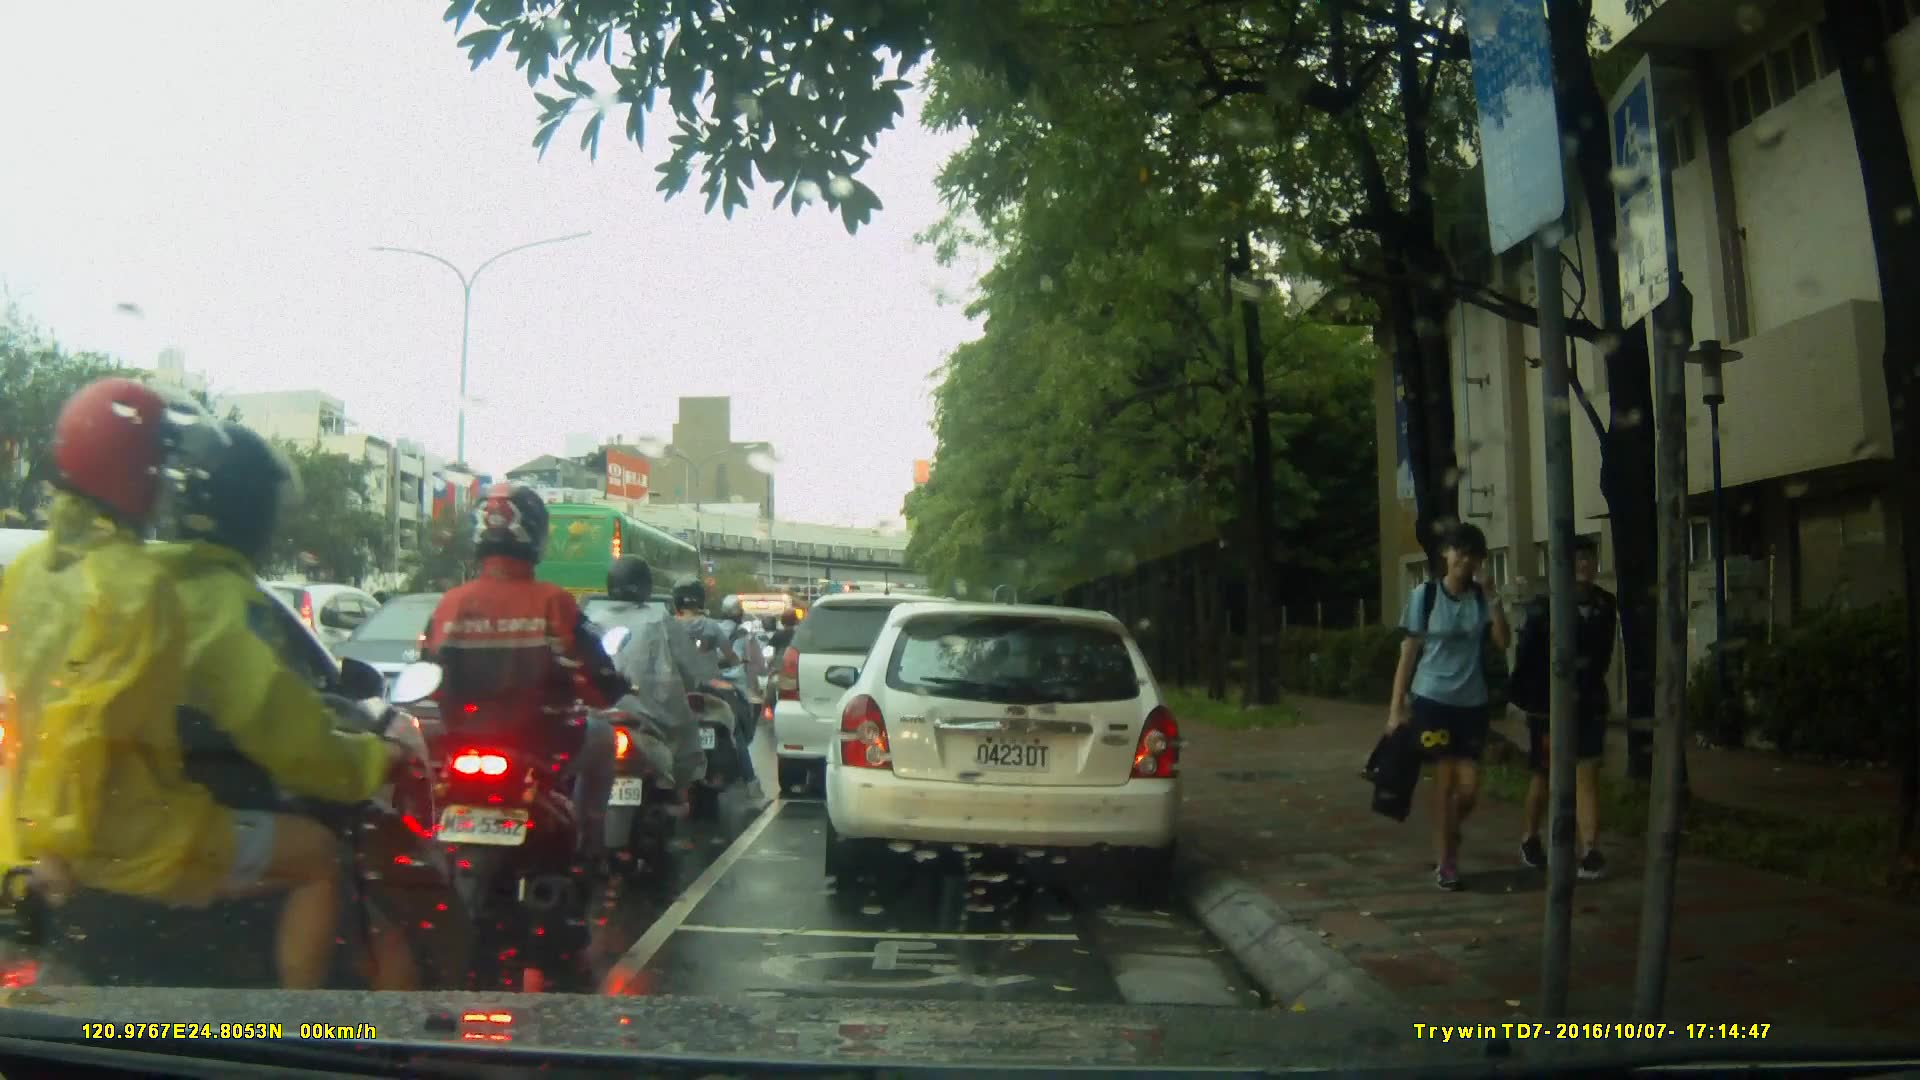pedestrian: (1357, 525, 1525, 893), (1512, 529, 1644, 890)
rider: (1, 369, 440, 1080), (414, 475, 641, 975), (573, 554, 736, 878), (655, 572, 741, 809), (704, 592, 778, 752), (767, 602, 812, 719)
vehicle: (1, 530, 456, 988), (831, 592, 1196, 897), (322, 590, 629, 776), (770, 590, 999, 803), (495, 502, 707, 636)
